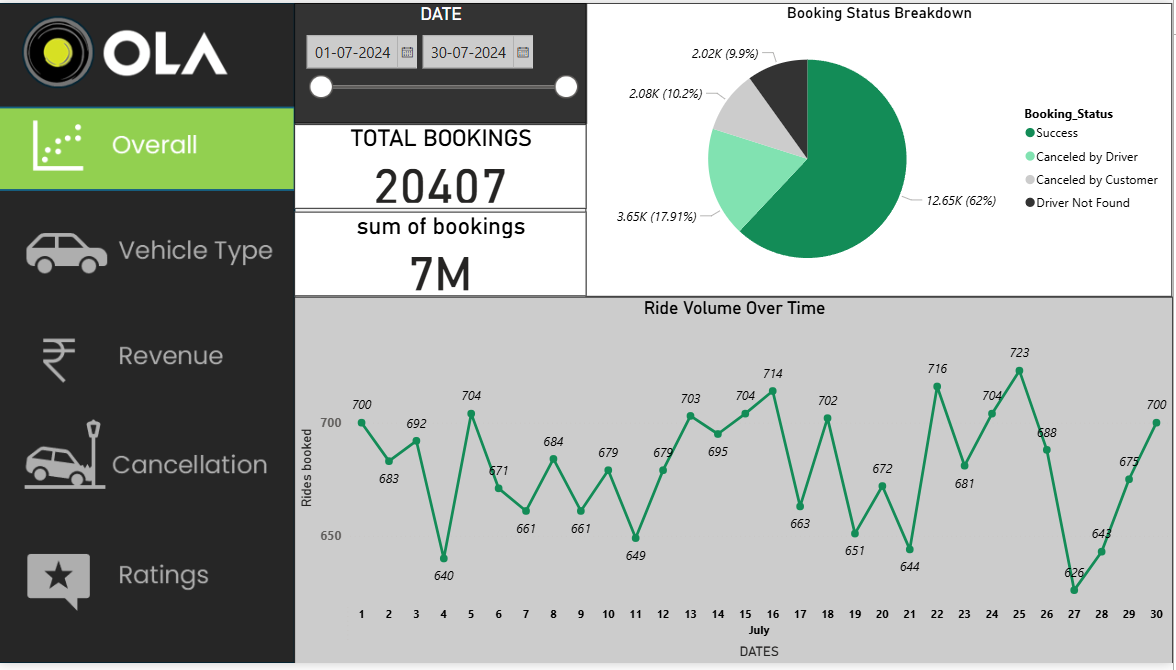

The page's visual inventory and layout, read from the dashboard file:
{"tool":"powerbi","page":{"name":"overall","canvas":[1280,720],"ordinal":0},"visuals":[{"type":"actionButton","box":[0,227.8,322.5,91.9],"z":0},{"type":"actionButton","box":[0,579.1,322.5,91.9],"z":1000},{"type":"actionButton","box":[0,452.8,322.5,91.9],"z":2000},{"type":"actionButton","box":[0,334.8,322.5,91.9],"z":3000},{"type":"lineChart","title":" Ride Volume Over Time","fields":{"Y":["CountNonNull(Bookings-20000-Rows.Booking_ID)"],"Category":["Bookings-20000-Rows.Date.Variation.Date Hierarchy.Month","Bookings-20000-Rows.Date.Variation.Date Hierarchy.Day"]},"box":[322.5,319.7,957.8,400.7],"z":4000},{"type":"pieChart","title":"Booking Status Breakdown","fields":{"Category":["Bookings-20000-Rows.Booking_Status"],"Y":["CountNonNull(Bookings-20000-Rows.Booking_Status)"]},"box":[640.7,0,639.3,319.6],"z":5000},{"type":"slicer","title":"DATE","fields":{"Values":["Bookings-20000-Rows.Date"]},"box":[322.5,0,318.2,131.5],"z":6000},{"type":"card","title":"TOTAL BOOKINGS","fields":{"Values":["Count(Bookings-20000-Rows.Booking_ID)"]},"box":[322.5,131.5,318.2,91.9],"z":7000},{"type":"card","title":"sum of bookings","fields":{"Values":["Sum(Bookings-20000-Rows.Booking_Value)"]},"box":[322.5,227.7,318.2,91.9],"z":8000}]}

Visuals, with their boxes in screenshot pixels (x1, y1, x2, y2), scaled from the page's 1280x720 canvas onto the 1176x670 screenshot:
actionButton: (left=0, top=212, right=296, bottom=297)
actionButton: (left=0, top=539, right=296, bottom=624)
actionButton: (left=0, top=421, right=296, bottom=507)
actionButton: (left=0, top=312, right=296, bottom=397)
" Ride Volume Over Time" lineChart: (left=296, top=297, right=1175, bottom=669)
"Booking Status Breakdown" pieChart: (left=589, top=0, right=1175, bottom=297)
"DATE" slicer: (left=296, top=0, right=589, bottom=122)
"TOTAL BOOKINGS" card: (left=296, top=122, right=589, bottom=208)
"sum of bookings" card: (left=296, top=212, right=589, bottom=297)
